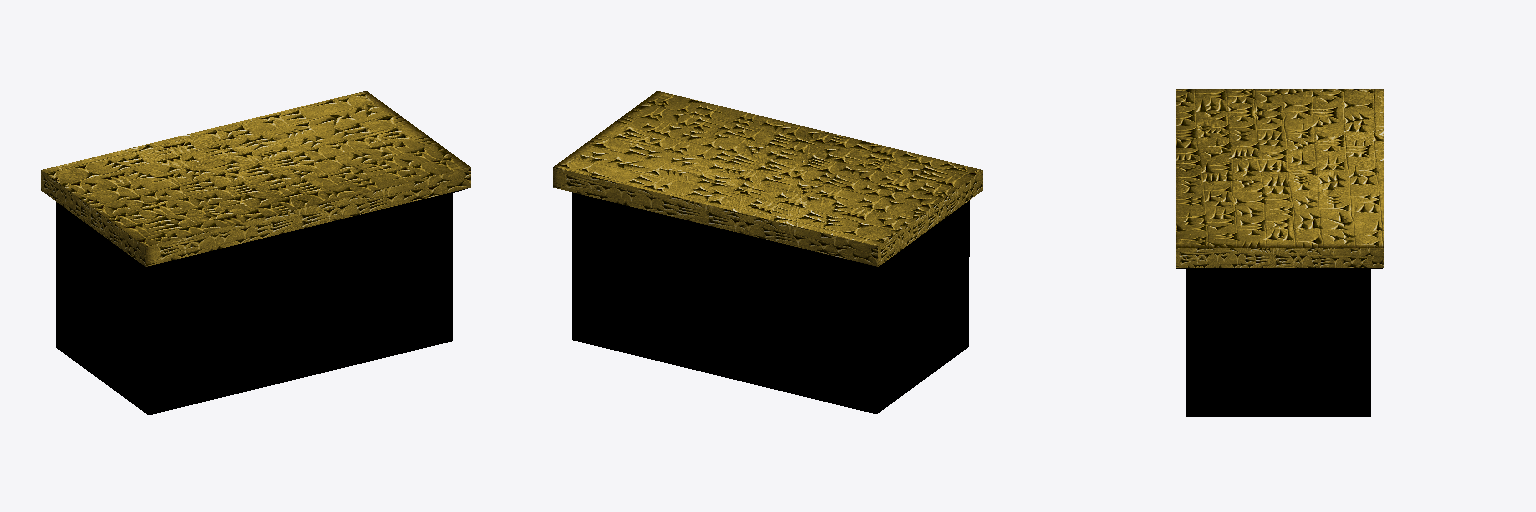
The picture shows the model from 3 angles: view 1: azimuth 30°, elevation 25°; view 2: azimuth 150°, elevation 25°; view 3: azimuth 270°, elevation 25°; orthographic projection.
Parts seen in each view (by area): view 1: altar; view 2: altar; view 3: altar.
Boxes of the visible parts, box(x1,y1,x2,y2) form: altar: box(41, 91, 470, 414); altar: box(553, 91, 982, 413); altar: box(1176, 89, 1383, 416).
Size of the model in its own units: 142 by 72.98 by 79.
Materials: 2 (1 with a texture image).